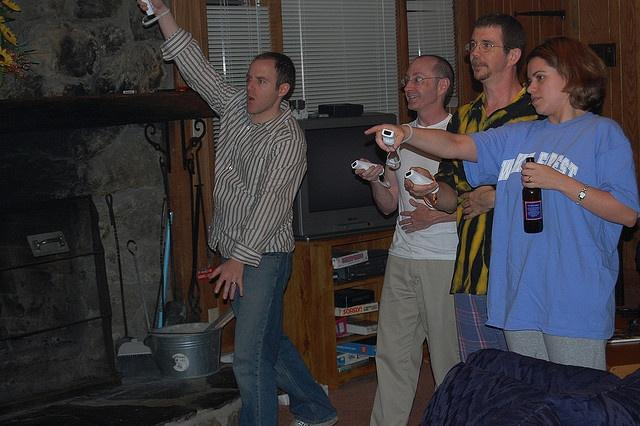AIO PC-Monitor-TV: (292, 114, 396, 236)
Rak: (329, 230, 393, 381)
